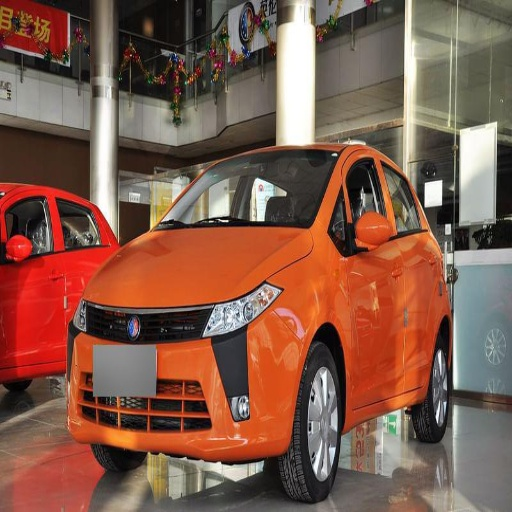front_bumper: (70, 302, 308, 462)
front_glass: (157, 150, 338, 229)
front_left_door: (337, 151, 404, 405)
